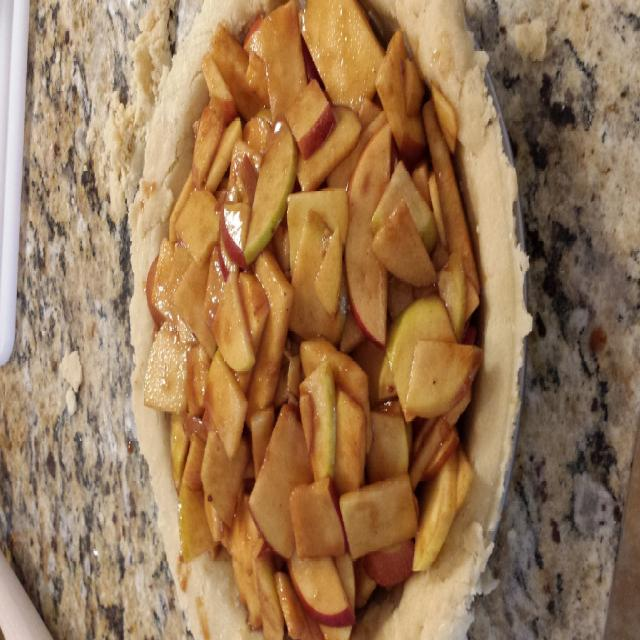Healty Apple: (141, 0, 486, 639), (342, 119, 390, 348)
